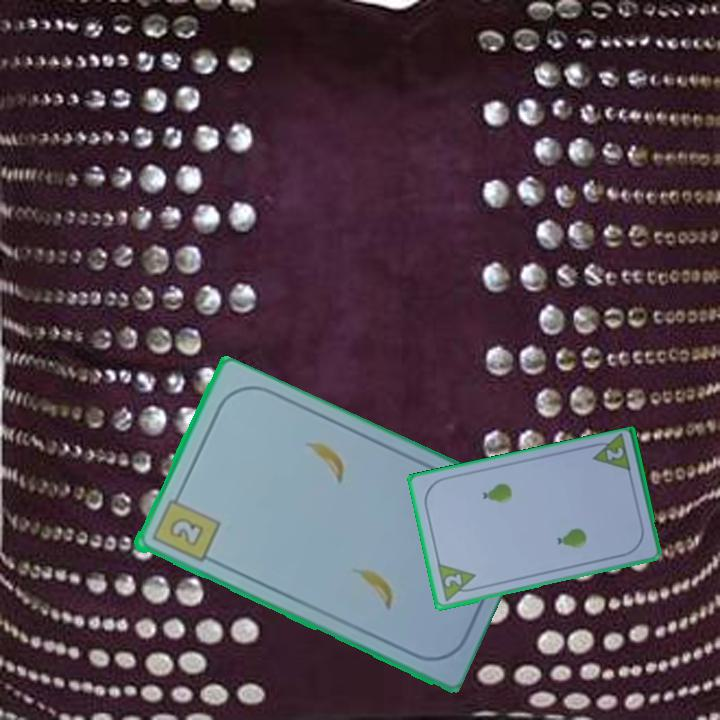2b: (148, 488, 222, 566)
2p: (602, 444, 627, 463), (441, 570, 464, 590)
